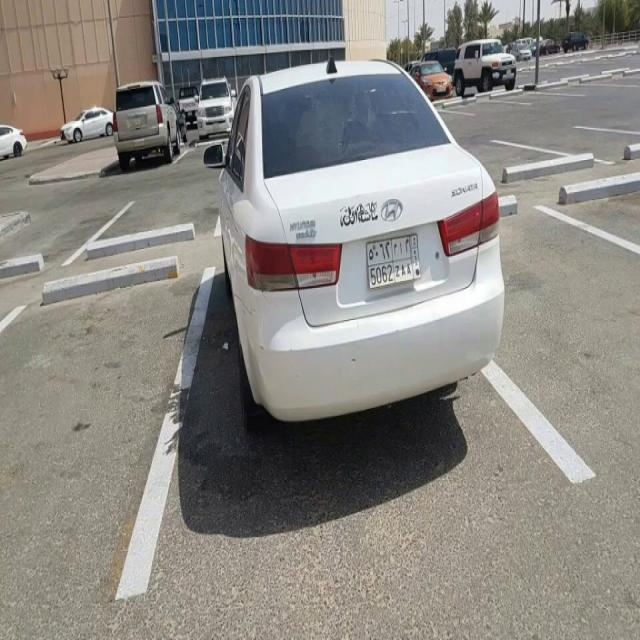license_plate: (366, 230, 422, 292)
